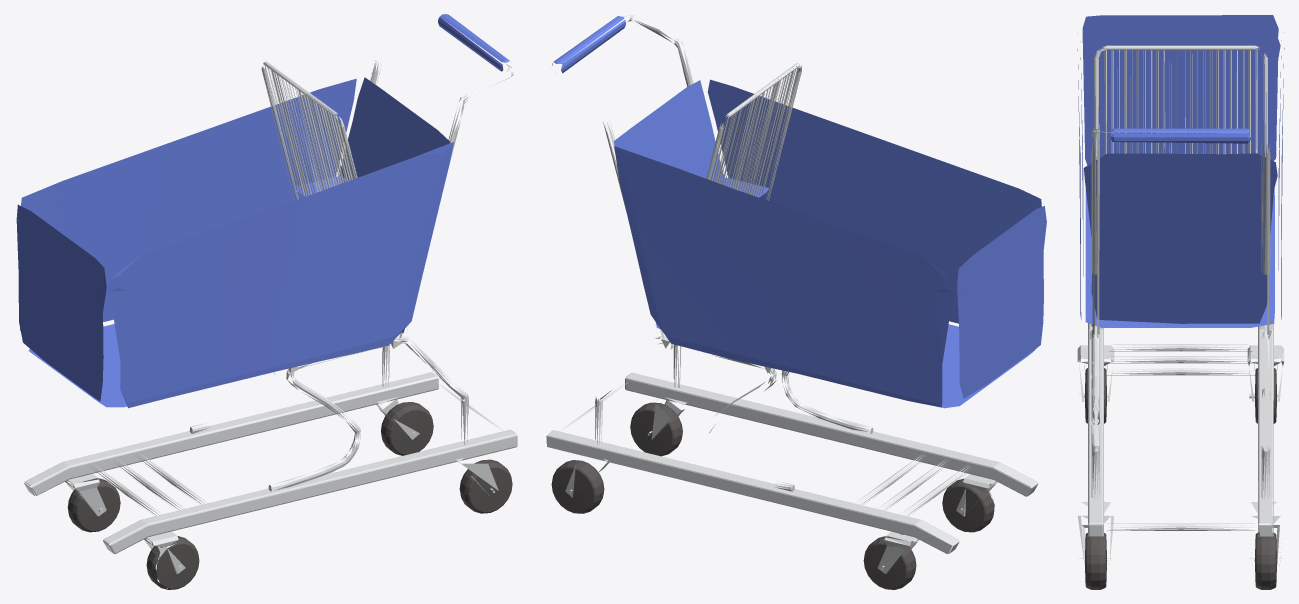
File: cart.glb
3 renders of one model, left to right at view 1: azimuth 30°, elevation 25°; view 2: azimuth 150°, elevation 25°; view 3: azimuth 270°, elevation 25°, orthographic. The views are drawn at different scales.
Visible parts, largest first — view 1: lambert2SG, lambert4SG, lambert3SG; view 2: lambert2SG, lambert4SG, lambert3SG; view 3: lambert2SG, lambert4SG, lambert3SG.
Boxes of the visible parts, left/top/right/bottom form: lambert2SG: left=16, top=14, right=511, bottom=408; lambert4SG: left=24, top=60, right=517, bottom=573; lambert3SG: left=67, top=402, right=512, bottom=589; lambert2SG: left=552, top=16, right=1046, bottom=408; lambert4SG: left=546, top=15, right=1038, bottom=573; lambert3SG: left=551, top=402, right=994, bottom=589; lambert2SG: left=1077, top=15, right=1284, bottom=327; lambert4SG: left=1077, top=45, right=1284, bottom=565; lambert3SG: left=1084, top=368, right=1277, bottom=589.
Size of the model in its own units: 2 by 2 by 0.7948.
